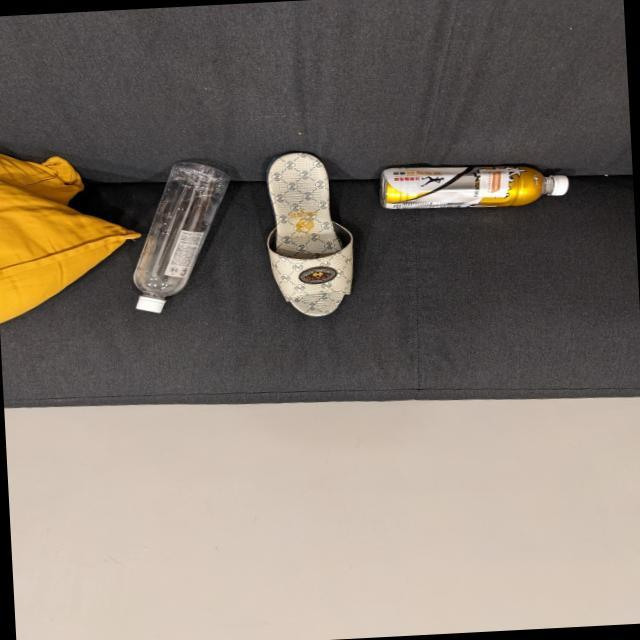good: (119, 166, 240, 316), (382, 161, 576, 215)
